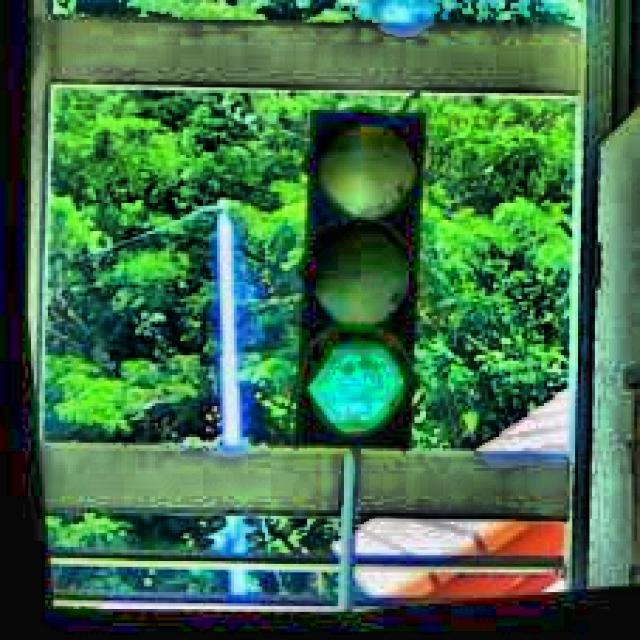green: (262, 106, 448, 469)
